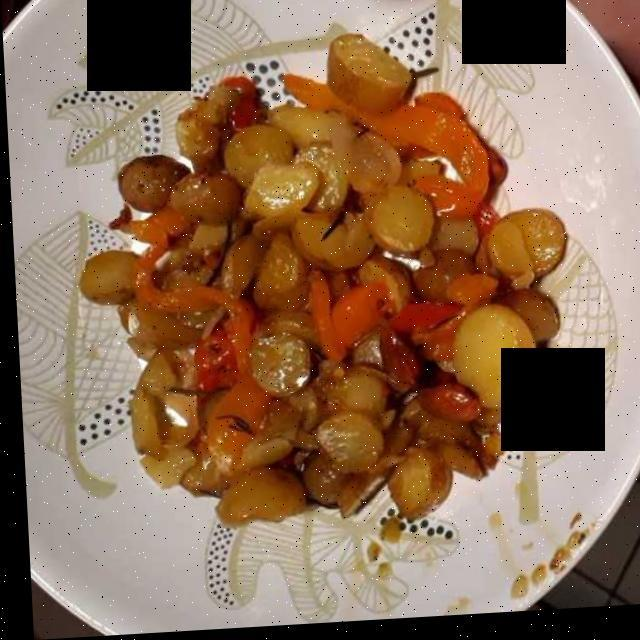almonds: (365, 270, 504, 450)
potatoes: (91, 50, 556, 531)
